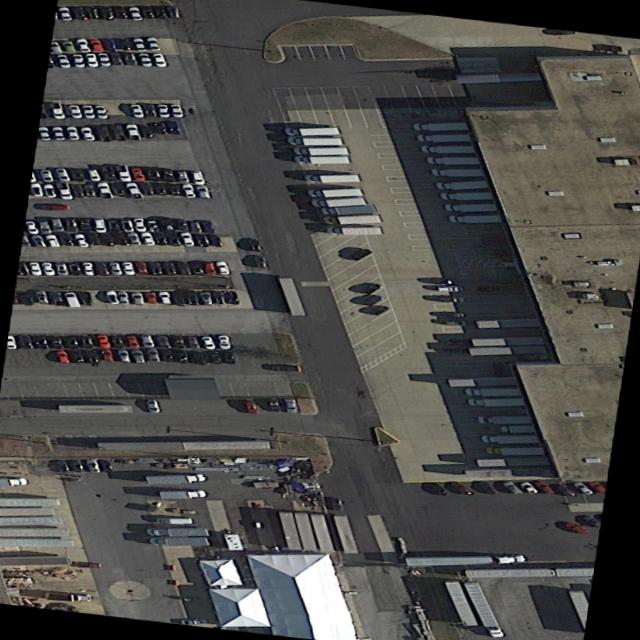large-vehicle: (464, 580, 506, 637), (404, 553, 526, 565), (146, 472, 206, 484), (312, 195, 367, 206), (323, 213, 382, 223), (145, 526, 210, 535), (309, 186, 364, 196), (486, 445, 546, 454), (467, 396, 525, 405), (327, 225, 384, 234), (413, 120, 470, 129), (285, 125, 341, 134), (477, 414, 533, 423), (321, 204, 375, 213), (295, 145, 349, 154), (419, 132, 473, 141), (149, 536, 209, 544), (437, 179, 490, 188), (448, 213, 505, 221), (481, 434, 538, 442), (43, 591, 93, 600), (305, 173, 361, 181), (444, 202, 499, 210), (159, 489, 207, 498), (433, 167, 486, 175), (428, 156, 481, 164), (464, 387, 522, 394), (420, 145, 478, 152), (288, 136, 344, 143), (441, 191, 494, 198), (297, 155, 350, 162)
small-vehicle: (346, 245, 375, 260), (358, 292, 387, 306), (357, 280, 385, 294), (448, 480, 474, 495), (530, 478, 555, 493), (425, 480, 450, 495), (561, 520, 589, 533), (501, 479, 525, 494), (110, 180, 131, 197), (516, 479, 539, 494), (94, 124, 114, 141), (108, 124, 129, 140), (125, 4, 146, 20), (49, 100, 67, 118), (123, 122, 142, 139), (114, 163, 133, 180), (571, 480, 594, 494), (475, 480, 498, 494), (63, 290, 83, 306), (124, 181, 144, 197), (95, 181, 115, 197), (85, 348, 102, 366), (155, 515, 193, 523), (76, 290, 96, 305), (366, 304, 391, 316), (553, 482, 576, 495), (56, 181, 73, 198), (86, 4, 105, 19), (144, 35, 163, 50), (41, 182, 60, 197), (71, 232, 91, 246), (282, 396, 298, 413), (85, 457, 102, 473), (170, 289, 188, 304), (147, 260, 165, 275), (144, 165, 162, 180), (99, 4, 117, 19), (72, 4, 90, 19), (178, 230, 196, 245), (199, 334, 218, 348), (159, 260, 178, 274), (222, 289, 241, 303), (57, 37, 76, 51), (73, 37, 92, 51), (115, 36, 134, 50), (53, 166, 72, 180), (270, 363, 302, 371), (80, 124, 96, 140), (17, 333, 34, 348), (54, 348, 71, 363), (55, 53, 72, 68), (65, 125, 82, 140), (85, 51, 100, 68), (152, 51, 169, 66), (40, 260, 57, 275), (70, 182, 87, 197), (586, 480, 607, 492), (130, 348, 148, 362), (130, 36, 148, 50), (44, 233, 62, 247), (165, 231, 183, 245), (180, 183, 198, 197), (132, 260, 151, 273), (111, 5, 130, 18), (112, 231, 131, 244), (194, 185, 213, 198), (50, 290, 66, 305), (95, 332, 111, 347), (71, 52, 87, 67), (81, 102, 96, 118), (97, 50, 113, 65), (27, 259, 43, 274), (33, 289, 50, 303), (185, 290, 202, 304), (198, 290, 215, 304), (175, 260, 192, 274), (188, 259, 205, 273), (202, 260, 219, 274), (165, 119, 182, 133), (142, 102, 159, 116), (191, 170, 208, 184), (30, 233, 47, 247), (54, 260, 71, 274), (68, 166, 85, 180), (139, 181, 156, 195), (207, 232, 224, 246), (110, 334, 128, 347), (153, 5, 171, 18), (85, 231, 103, 244), (58, 232, 76, 245), (193, 233, 211, 246), (73, 559, 102, 567), (20, 289, 35, 304), (138, 51, 153, 66), (132, 216, 147, 231), (104, 289, 120, 303), (207, 349, 223, 363), (191, 350, 207, 364), (144, 346, 160, 360), (215, 260, 231, 274), (146, 398, 162, 412), (120, 260, 136, 274), (129, 102, 145, 116), (152, 120, 168, 134), (138, 123, 154, 137), (94, 260, 110, 274), (51, 125, 67, 139), (109, 50, 125, 64), (59, 6, 75, 20), (100, 231, 116, 245), (25, 219, 41, 233), (80, 260, 96, 274), (86, 166, 102, 180), (29, 182, 45, 196), (140, 4, 157, 17), (99, 164, 116, 177), (139, 231, 156, 244), (38, 168, 55, 181), (117, 289, 132, 303), (175, 348, 190, 362), (248, 236, 263, 250), (65, 334, 80, 348), (35, 334, 50, 348), (95, 104, 110, 118), (170, 102, 184, 117), (64, 216, 79, 230), (50, 216, 64, 231), (157, 290, 173, 303), (211, 290, 227, 303), (253, 254, 269, 267), (161, 167, 177, 180), (88, 37, 104, 50), (100, 37, 117, 49), (126, 231, 143, 243), (152, 182, 169, 194), (428, 276, 457, 283), (217, 334, 231, 348), (223, 349, 237, 363), (108, 260, 122, 274), (68, 103, 82, 117), (156, 102, 170, 116), (38, 125, 52, 139), (38, 219, 52, 233), (68, 260, 82, 274), (131, 291, 146, 304), (186, 335, 201, 348), (117, 348, 132, 361), (140, 333, 155, 346), (244, 399, 259, 412), (78, 334, 93, 347), (51, 335, 66, 348), (55, 458, 70, 471), (69, 458, 84, 471), (122, 51, 137, 64), (131, 166, 146, 179), (120, 218, 135, 231), (82, 183, 97, 196), (143, 290, 159, 302), (433, 295, 465, 301), (166, 182, 182, 194), (435, 284, 462, 291), (71, 349, 85, 362), (79, 216, 92, 230), (172, 334, 187, 346), (177, 169, 192, 181), (168, 6, 183, 18), (154, 232, 169, 244), (39, 203, 69, 209), (156, 335, 172, 346), (100, 348, 116, 359), (161, 348, 174, 361), (268, 397, 281, 410), (160, 218, 173, 231), (202, 219, 215, 232), (126, 334, 140, 346), (330, 497, 344, 509), (107, 218, 121, 230), (146, 219, 160, 231), (439, 311, 466, 317), (180, 618, 206, 624), (94, 217, 105, 231), (444, 319, 468, 325), (190, 219, 201, 231), (176, 218, 188, 229)
